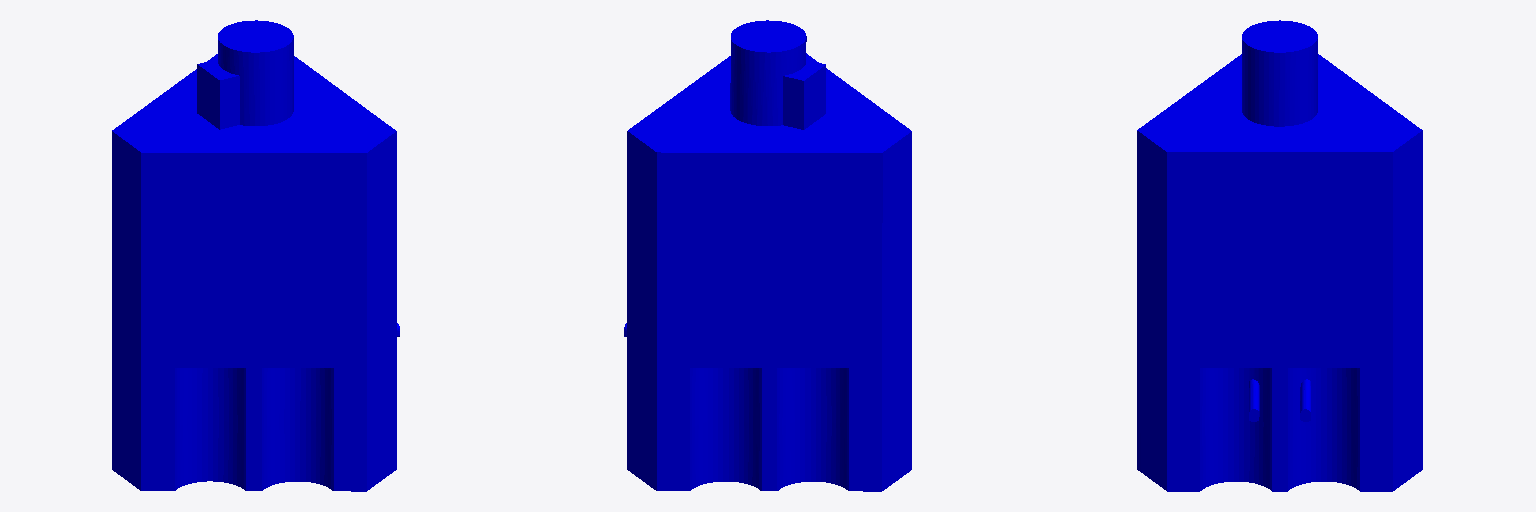
robot.urdf — main_robot:
<?xml version="1.0"?>
<robot name="main_robot">
  <material name="blue">
    <color rgba="0 0 1 0.8"/>
  </material>

  <link name="main_robot">

    <visual>
      <origin xyz="0 0 0.05" rpy="1.57 0 3.14" />
      <geometry>
        <mesh
          filename="package://eurobot_localization/models/Racer.stl" scale="0.001 0.001 0.001" />
      </geometry>
      <material name="blue"/>
    </visual>
    <collision>
      <origin xyz="0 0 0" rpy="1.57 0 1.05" />
      <geometry>
        <mesh
          filename="package://eurobot_localization/models/Racer.stl" scale="0.001 0.001 0.001" />
      </geometry>
    </collision>

  </link>

</robot>

--- What the picture shows (computed from the rendered views, not written in the file) ---
3 views of the same robot in one strip: view 1: azimuth 30°, elevation 25°; view 2: azimuth 150°, elevation 25°; view 3: azimuth 270°, elevation 25° (orthographic).
Model main_robot with 1 links and 0 joints (none), rooted at main_robot, posed all joints at 0.
Visible links, largest first — view 1: main_robot; view 2: main_robot; view 3: main_robot.
Boxes of the visible links, x1,y1,x2,y2 form: main_robot: (112, 20, 399, 491); main_robot: (624, 20, 911, 491); main_robot: (1137, 20, 1422, 491).
Size in the robot's own frame: 0.2743 by 0.2626 by 0.4191 metres.
1 mesh visuals loaded from 1 distinct referenced files (1 binary STL).